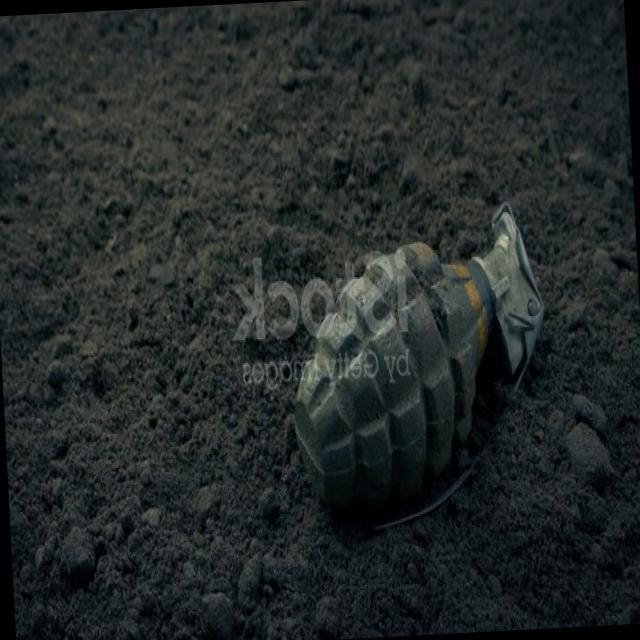grenade: (282, 203, 555, 546)
